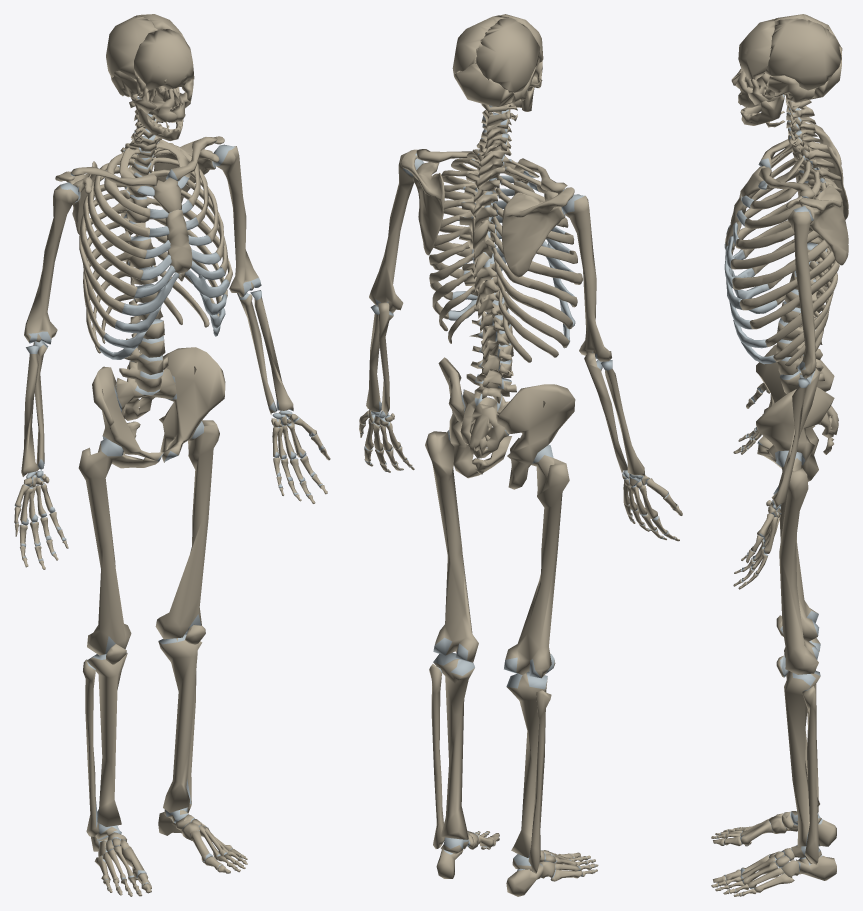
File: adult_male.skeletal.LOD3.glb
3 renders of one model, left to right at view 1: azimuth 30°, elevation 25°; view 2: azimuth 150°, elevation 25°; view 3: azimuth 270°, elevation 25°, orthographic. The views are drawn at different scales.
Parts seen in each view (by area): view 1: ADULT.MALE.SKELETAL.FEMUR.R, ADULT.MALE.SKELETAL.FEMUR.L, ADULT.MALE.SKELETAL.HIP_BONE.L, ADULT.MALE.SKELETAL.TIBIA.L, ADULT.MALE.SKELETAL.TIBIA.R, ADULT.MALE.SKELETAL.FRONTAL_BONE, ADULT.MALE.SKELETAL.HUMERUS.R, ADULT.MALE.SKELETAL.HIP_BONE.R, ADULT.MALE.SKELETAL.HUMERUS.L, ADULT.MALE.SKELETAL.PARIETAL_BONE.R, ADULT.MALE.SKELETAL.SACRUM, ADULT.MALE.SKELETAL.FIBULA.R (+18 smaller); view 2: ADULT.MALE.SKELETAL.FEMUR.R, ADULT.MALE.SKELETAL.FEMUR.L, ADULT.MALE.SKELETAL.HIP_BONE.R, ADULT.MALE.SKELETAL.SCAPULA.R, ADULT.MALE.SKELETAL.TIBIA.L, ADULT.MALE.SKELETAL.PARIETAL_BONE.R, ADULT.MALE.SKELETAL.TIBIA.R, ADULT.MALE.SKELETAL.HUMERUS.R, ADULT.MALE.SKELETAL.HUMERUS.L, ADULT.MALE.SKELETAL.SCAPULA.L, ADULT.MALE.SKELETAL.SACRUM, ADULT.MALE.SKELETAL.HIP_BONE.L (+15 smaller); view 3: ADULT.MALE.SKELETAL.FEMUR.L, ADULT.MALE.SKELETAL.PARIETAL_BONE.L, ADULT.MALE.SKELETAL.HIP_BONE.L, ADULT.MALE.SKELETAL.TIBIA.L, ADULT.MALE.SKELETAL.HUMERUS.L, ADULT.MALE.SKELETAL.SCAPULA.L, ADULT.MALE.SKELETAL.FIBULA.L, ADULT.MALE.SKELETAL.FRONTAL_BONE, ADULT.MALE.SKELETAL.HIP_BONE.R, ADULT.MALE.SKELETAL.RADIUS.L, ADULT.MALE.SKELETAL.FEMUR.R, ADULT.MALE.SKELETAL.SEVENTH_RIB.L (+28 smaller).
Boxes of the visible parts, x1,y1,x2,y2 form: ADULT.MALE.SKELETAL.FEMUR.R: (78,438,131,655); ADULT.MALE.SKELETAL.FEMUR.L: (155,420,219,639); ADULT.MALE.SKELETAL.HIP_BONE.L: (159,347,225,462); ADULT.MALE.SKELETAL.TIBIA.L: (158,633,198,812); ADULT.MALE.SKELETAL.TIBIA.R: (86,653,127,826); ADULT.MALE.SKELETAL.FRONTAL_BONE: (134,29,194,90); ADULT.MALE.SKELETAL.HUMERUS.R: (24,182,78,344); ADULT.MALE.SKELETAL.HIP_BONE.R: (92,366,163,468); ADULT.MALE.SKELETAL.HUMERUS.L: (213,144,261,297); ADULT.MALE.SKELETAL.PARIETAL_BONE.R: (106,15,157,79); ADULT.MALE.SKELETAL.SACRUM: (115,368,176,420); ADULT.MALE.SKELETAL.FIBULA.R: (83,659,99,836); ADULT.MALE.SKELETAL.FEMUR.R: (504,444,569,678); ADULT.MALE.SKELETAL.FEMUR.L: (425,430,478,662); ADULT.MALE.SKELETAL.HIP_BONE.R: (496,384,575,489); ADULT.MALE.SKELETAL.SCAPULA.R: (502,187,574,277); ADULT.MALE.SKELETAL.TIBIA.L: (433,652,474,839); ADULT.MALE.SKELETAL.PARIETAL_BONE.R: (475,17,540,93); ADULT.MALE.SKELETAL.TIBIA.R: (506,671,547,857); ADULT.MALE.SKELETAL.HUMERUS.R: (562,194,611,361); ADULT.MALE.SKELETAL.HUMERUS.L: (369,152,424,313); ADULT.MALE.SKELETAL.SCAPULA.L: (401,149,444,255); ADULT.MALE.SKELETAL.SACRUM: (460,389,509,458); ADULT.MALE.SKELETAL.HIP_BONE.L: (438,357,511,478); ADULT.MALE.SKELETAL.FEMUR.L: (775,450,819,674); ADULT.MALE.SKELETAL.PARIETAL_BONE.L: (764,19,841,90); ADULT.MALE.SKELETAL.HIP_BONE.L: (756,387,834,481); ADULT.MALE.SKELETAL.TIBIA.L: (784,670,820,846); ADULT.MALE.SKELETAL.HUMERUS.L: (787,206,816,378); ADULT.MALE.SKELETAL.SCAPULA.L: (786,184,848,265); ADULT.MALE.SKELETAL.FIBULA.L: (802,686,818,864); ADULT.MALE.SKELETAL.FRONTAL_BONE: (738,18,775,79); ADULT.MALE.SKELETAL.HIP_BONE.R: (756,344,834,454); ADULT.MALE.SKELETAL.RADIUS.L: (771,378,809,507); ADULT.MALE.SKELETAL.FEMUR.R: (779,496,819,641); ADULT.MALE.SKELETAL.SEVENTH_RIB.L: (740,250,835,310).
Size of the model in its own units: 0.6694 by 1.7 by 0.2498.
